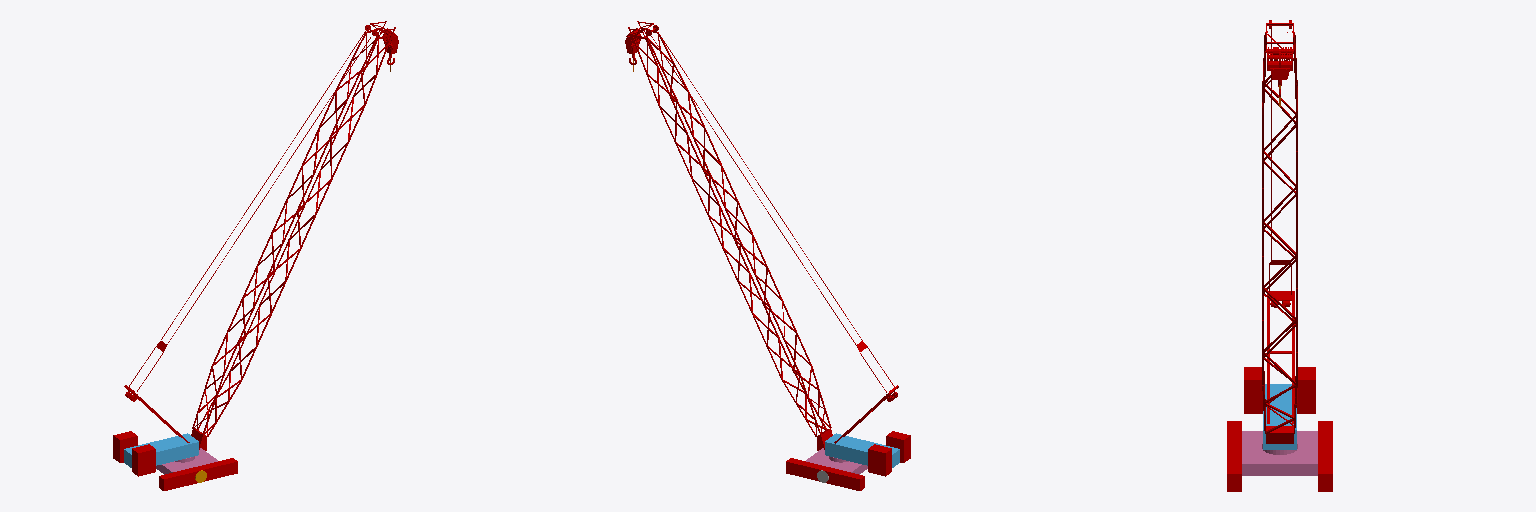
URDF robot description (crawler_crane):
<?xml version="1.0" ?>
<!-- =================================================================================== -->
<!-- |    This document was autogenerated by xacro from crawler_crane_xytheta.urdf.xacro | -->
<!-- |    EDITING THIS FILE BY HAND IS NOT RECOMMENDED                                 | -->
<!-- =================================================================================== -->
<robot name="crawler_crane" xmlns:xacro="http://www.ros.org/wiki/xacro">
  <!-- Included material Files -->
  <material name="black">
    <color rgba="0.0 0.0 0.0 1.0"/>
  </material>
  <material name="blue">
    <color rgba="0.0 0.0 0.8 1.0"/>
  </material>
  <material name="green">
    <color rgba="0.0 0.8 0.0 1.0"/>
  </material>
  <material name="grey">
    <color rgba="0.2 0.2 0.2 1.0"/>
  </material>
  <material name="orange">
    <color rgba="1.0 0.423529411765 0.0392156862745 1.0"/>
  </material>
  <material name="brown">
    <color rgba="0.870588235294 0.811764705882 0.764705882353 1.0"/>
  </material>
  <material name="red">
    <color rgba="0.8 0.0 0.0 1.0"/>
  </material>
  <material name="white">
    <color rgba="1.0 1.0 1.0 1.0"/>
  </material>
  <!-- transmision of joints -->
  <!-- controllers plugins -->
  <!-- velodyne laser -->
  <!-- LR1400-2 -->
  <!--33000-->
  <!--2*67500-->
  <!--1/6-->
  <!--23.2=2.9*(56/7)-->
  <!-- L=1.0, W=2.4 -->
  <!-- Macro for inertia matrix -->
  <!-- Macro for wheel joint -->
  <!-- Macro for counterWeight joint -->
  <!--===============================================================================================-->
  <link name="base_link">
    <visual>
      <geometry>
        <sphere radius="0.0"/>
      </geometry>
      <material name="blue">
        <color rgba="0.0 0.0 0.8 1.0"/>
      </material>
    </visual>
  </link>
  <link name="base_x_link">
    <visual>
      <geometry>
        <sphere radius="0.0"/>
      </geometry>
      <material name="blue">
        <color rgba="0.0 0.0 0.8 1.0"/>
      </material>
    </visual>
  </link>
  <joint name="base_x_joint" type="prismatic">
    <parent link="base_link"/>
    <child link="base_x_link"/>
    <limit effort="1000.0" lower="-100.0" upper="100.0" velocity="0.5"/>
    <axis xyz="1 0 0"/>
    <!-- <origin rpy="0 1.57075 0" xyz="0 0 0"/> -->
  </joint>
  <link name="base_y_link">
    <visual>
      <geometry>
        <sphere radius="0.0"/>
      </geometry>
      <material name="blue">
        <color rgba="0.0 0.0 0.8 1.0"/>
      </material>
    </visual>
  </link>
  <joint name="base_y_joint" type="prismatic">
    <parent link="base_x_link"/>
    <child link="base_y_link"/>
    <axis xyz="0 1 0"/>
    <limit effort="1000.0" lower="-100.0" upper="100.0" velocity="0.5"/>
    <!-- <origin rpy="-1.57075 0 0" xyz="0 0 0"/> -->
  </joint>
  <link name="platform_link">
    <visual>
      <geometry>
        <sphere radius="0.0"/>
      </geometry>
      <material name="blue">
        <color rgba="0.0 0.0 0.8 1.0"/>
      </material>
    </visual>
  </link>
  <joint name="platform_joint" type="fixed">
    <parent link="base_y_link"/>
    <child link="platform_link"/>
    <limit effort="1000.0" lower="-10.0" upper="10.0" velocity="0.5"/>
    <origin rpy="0 0 0" xyz="0 0 0"/>
  </joint>
  <link name="base_theta_link">
    <visual>
      <geometry>
        <sphere radius="0.0"/>
      </geometry>
      <material name="blue">
        <color rgba="0.0 0.0 0.8 1.0"/>
      </material>
    </visual>
  </link>
  <joint name="base_theta_joint" type="continuous">
    <origin rpy="0 0 0" xyz="0 0 0"/>
    <parent link="platform_link"/>
    <child link="base_theta_link"/>
    <axis xyz="0 0 1"/>
  </joint>
  <joint name="base_fix_joint" type="fixed">
    <origin rpy="0 0 0" xyz="0 0 0"/>
    <parent link="base_theta_link"/>
    <child link="base_footprint"/>
  </joint>
  <!-- BASE-FOOTPRINT -->
  <!-- base_footprint is a fictitious link(frame) that is on the ground right below base_link origin -->
  <link name="base_footprint">
    <inertial>
      <mass value="0.0001"/>
      <origin xyz="0 0 0"/>
      <inertia ixx="0.0001" ixy="0.0" ixz="0.0" iyy="0.0001" iyz="0.0" izz="0.0001"/>
    </inertial>
    <visual>
      <origin rpy="0 0 0" xyz="0 0 0"/>
      <geometry>
        <box size="0.001 0.001 0.001"/>
      </geometry>
    </visual>
  </link>
  <gazebo reference="base_footprint">
    <material>Gazebo/Blue</material>
  </gazebo>
  <joint name="base_footprint_joint" type="fixed">
    <origin rpy="0 0 0" xyz="0 0 1.05"/>
    <parent link="base_footprint"/>
    <child link="bottom_link"/>
  </joint>
  <!-- BOTTOM-->
  <link name="bottom_link">
    <inertial>
      <mass value="1750.0"/>
      <inertia ixx="6337.91666667" ixy="0" ixz="0" iyy="11949.5833333" iyz="0" izz="5964.58333333"/>
    </inertial>
    <!-- the crawlerM is placed on the wheels -->
    <visual>
      <origin rpy="0 0 0" xyz="0 0 0"/>
      <geometry>
        <box size="6.5 6.3 1.1"/>
      </geometry>
      <material name="White"/>
    </visual>
    <collision>
      <origin rpy="0 0 0 " xyz="0 0 0"/>
      <geometry>
        <box size="6.5 6.3 1.1"/>
      </geometry>
    </collision>
    <!-- L-crawler -->
    <visual>
      <origin rpy="0 0 0" xyz="0 3.75 -0.25"/>
      <geometry>
        <box size="10.385 1.2 1.6"/>
      </geometry>
      <material name="red"/>
    </visual>
    <collision>
      <origin rpy="0 0 0" xyz="0 3.75 -0.25"/>
      <geometry>
        <box size="10.385 1.2 1.6"/>
      </geometry>
    </collision>
    <!-- R-crawler -->
    <visual>
      <origin rpy="0 0 0" xyz="0 -3.75 -0.25"/>
      <geometry>
        <box size="10.385 1.2 1.6"/>
      </geometry>
      <material name="red"/>
    </visual>
    <collision>
      <origin rpy="0 0 0" xyz="0 -3.75 -0.25"/>
      <geometry>
        <box size="10.385 1.2 1.6"/>
      </geometry>
    </collision>
    <!-- slewingRing -->
    <visual>
      <origin rpy="0 0 0" xyz="0 0 0.8"/>
      <geometry>
        <cylinder length="0.5" radius="1.5"/>
      </geometry>
      <material name="White"/>
    </visual>
    <collision>
      <origin rpy="0 0 0" xyz="0 0 0.8"/>
      <geometry>
        <cylinder length="0.5" radius="1.5"/>
      </geometry>
    </collision>
  </link>
  <!-- Wheel Definitions -->
  <!-- lr: left, right -->
  <link name="wheel_right_link">
    <visual>
      <origin rpy="1.57079632679 0  0 " xyz="0 0 0"/>
      <geometry>
        <cylinder length="0.12" radius="0.8"/>
      </geometry>
      <material name="Black"/>
    </visual>
    <collision>
      <origin rpy="1.57079632679 0 0 " xyz="0 0 0"/>
      <geometry>
        <cylinder length="0.12" radius="0.8"/>
      </geometry>
    </collision>
    <inertial>
      <mass value="2770000.0"/>
      <inertia ixx="775600.0" ixy="0" ixz="0" iyy="775600.0" iyz="0" izz="886400.0"/>
    </inertial>
    <!-- the crawlerM is placed on the wheels -->
  </link>
  <gazebo reference="wheel_right_link">
    <material>Gazebo/Black</material>
  </gazebo>
  <joint name="chassis_to_wheel_right_joint" type="continuous">
    <parent link="bottom_link"/>
    <child link="wheel_right_link"/>
    <origin rpy="0 0 0" xyz="0 4.35 -0.25"/>
    <axis rpy="0 0 0" xyz="0 1 0"/>
  </joint>
  <!-- Transmission is important to link the joints and the controller -->
  <transmission name="wheel_right_joint_trans">
    <type>transmission_interface/SimpleTransmission</type>
    <joint name="chassis_to_wheel_right_joint"/>
    <actuator name="wheel_right_joint_motor">
      <hardwareInterface>EffortJointInterface</hardwareInterface>
      <mechanicalReduction>1</mechanicalReduction>
    </actuator>
  </transmission>
  <!-- lr: left, right -->
  <link name="wheel_left_link">
    <visual>
      <origin rpy="1.57079632679 0  0 " xyz="0 0 0"/>
      <geometry>
        <cylinder length="0.12" radius="0.8"/>
      </geometry>
      <material name="Black"/>
    </visual>
    <collision>
      <origin rpy="1.57079632679 0 0 " xyz="0 0 0"/>
      <geometry>
        <cylinder length="0.12" radius="0.8"/>
      </geometry>
    </collision>
    <inertial>
      <mass value="2770000.0"/>
      <inertia ixx="775600.0" ixy="0" ixz="0" iyy="775600.0" iyz="0" izz="886400.0"/>
    </inertial>
    <!-- the crawlerM is placed on the wheels -->
  </link>
  <gazebo reference="wheel_left_link">
    <material>Gazebo/Black</material>
  </gazebo>
  <joint name="chassis_to_wheel_left_joint" type="continuous">
    <parent link="bottom_link"/>
    <child link="wheel_left_link"/>
    <origin rpy="0 0 0" xyz="0 -4.35 -0.25"/>
    <axis rpy="0 0 0" xyz="0 1 0"/>
  </joint>
  <!-- Transmission is important to link the joints and the controller -->
  <transmission name="wheel_left_joint_trans">
    <type>transmission_interface/SimpleTransmission</type>
    <joint name="chassis_to_wheel_left_joint"/>
    <actuator name="wheel_left_joint_motor">
      <hardwareInterface>EffortJointInterface</hardwareInterface>
      <mechanicalReduction>1</mechanicalReduction>
    </actuator>
  </transmission>
  <!-- superStructure Definitions -->
  <joint name="superStructure_joint" type="continuous">
    <origin rpy="0 0 0" xyz="0 0 1.05"/>
    <!-- on the top of slewingRing -->
    <axis rpy="0 0 0" xyz="0 0 1"/>
    <limit effort="1000000000000000000000000000" velocity="1.57079632679"/>
    <parent link="bottom_link"/>
    <child link="superStructure_link"/>
  </joint>
  <link name="superStructure_link">
    <inertial>
      <mass value="3300.0"/>
      <inertia ixx="23166.0" ixy="0" ixz="0" iyy="24431.0" iyz="0" izz="3047.0"/>
    </inertial>
    <visual>
      <origin rpy="0 0 0" xyz="-3.0 0 0.9"/>
      <geometry>
        <box size="9.0 2.8 1.8"/>
      </geometry>
      <material name="White"/>
    </visual>
    <collision>
      <origin rpy="0 0 0 " xyz="-3.0 0 0.9"/>
      <geometry>
        <box size="9.0 2.8 1.8"/>
      </geometry>
    </collision>
  </link>
  <!-- counterWeight Definitions -->
  <!-- lr: left, right -->
  <link name="counterWeight_right_link">
    <visual>
      <origin rpy="0 0  0" xyz="0 0 1.55"/>
      <geometry>
        <box size="2.495 1.6 3.1"/>
      </geometry>
      <material name="red"/>
    </visual>
    <collision>
      <origin rpy="0 0 0" xyz="0 0 1.55"/>
      <geometry>
        <box size="2.495 1.6 3.1"/>
      </geometry>
    </collision>
    <inertial>
      <mass value="6.75"/>
      <inertia ixx="8.9072015625" ixy="0" ixz="0" iyy="4.9415765625" iyz="0" izz="6.845625"/>
    </inertial>
  </link>
  <gazebo reference="counterWeight_right_link">
    <material>Gazebo/Red</material>
  </gazebo>
  <joint name="superStructure_to_counterWeight_right_joint" type="fixed">
    <parent link="superStructure_link"/>
    <child link="counterWeight_right_link"/>
    <origin rpy="0 0 0" xyz="-6.75 2.2 0"/>
  </joint>
  <!-- lr: left, right -->
  <link name="counterWeight_left_link">
    <visual>
      <origin rpy="0 0  0" xyz="0 0 1.55"/>
      <geometry>
        <box size="2.495 1.6 3.1"/>
      </geometry>
      <material name="red"/>
    </visual>
    <collision>
      <origin rpy="0 0 0" xyz="0 0 1.55"/>
      <geometry>
        <box size="2.495 1.6 3.1"/>
      </geometry>
    </collision>
    <inertial>
      <mass value="6.75"/>
      <inertia ixx="8.9072015625" ixy="0" ixz="0" iyy="4.9415765625" iyz="0" izz="6.845625"/>
    </inertial>
  </link>
  <gazebo reference="counterWeight_left_link">
    <material>Gazebo/Red</material>
  </gazebo>
  <joint name="superStructure_to_counterWeight_left_joint" type="fixed">
    <parent link="superStructure_link"/>
    <child link="counterWeight_left_link"/>
    <origin rpy="0 0 0" xyz="-6.75 -2.2 0"/>
  </joint>
  <!-- luffing: boom joint -->
  <joint name="boom_joint" type="revolute">
    <origin rpy="0 0 0" xyz="1.5 0 0.49"/>
    <axis xyz="0 -1 0"/>
    <limit effort="1000000000000000000000000000" lower="0.6" upper="1.57079632679" velocity="1.57"/>
    <parent link="superStructure_link"/>
    <child link="boom_link"/>
  </joint>
  <link name="boom_link">
    <inertial>
      <mass value="232.0"/>
      <inertia ixx="60740.6933333" ixy="0" ixz="0" iyy="60780.9066667" iyz="0" izz="262.933333333"/>
    </inertial>
    <visual>
      <origin rpy="0 0 0" xyz="0 0 0"/>
      <geometry>
        <!--<box size="${boomL} ${boomW} ${boomH}" />-->
        <mesh filename="package://crawler_crane_description/meshes/boom.dae"/>
      </geometry>
      <material name="red"/>
    </visual>
    <collision>
      <origin rpy="0 0 0" xyz="28.0 0 0"/>
      <geometry>
        <box size="56.0 2.8 2.4"/>
      </geometry>
    </collision>
  </link>
  <!-- maintain rope erect: rope joint -->
  <joint name="rope_joint" type="revolute">
    <origin rpy="0 0 0" xyz="56.0 0 -1.66"/>
    <axis xyz="0 -1 0"/>
    <limit effort="1000000000000000000000000000" lower="-3.14159265359" upper="3.14159265359" velocity="1.57"/>
    <mimic joint="boom_joint" multiplier="-1.0" offset="0"/>
    <parent link="boom_link"/>
    <child link="rope_link"/>
  </joint>
  <link name="rope_link">
    <inertial>
      <mass value="150.0"/>
      <inertia ixx="31250.125" ixy="0" ixz="0" iyy="0.25" iyz="0" izz="31250.125"/>
    </inertial>
    <!--hookBlock Mass is placed here -->
    <visual>
      <origin rpy="0 0 0" xyz="0 0 -2.5"/>
      <geometry>
        <box size="0.1 0.1 5"/>
      </geometry>
    </visual>
  </link>
  <!-- lifting: hook_block joint -->
  <joint name="hook_block_joint" type="prismatic">
    <origin rpy="0 0 0" xyz="0 0 0"/>
    <axis xyz="0 0 -1"/>
    <limit effort="1000000000000000000000000000" lower="0" upper="84.0" velocity="2.0"/>
    <parent link="rope_link"/>
    <child link="hook_block_link"/>
  </joint>
  <link name="hook_block_link">
    <inertial>
      <mass value="0.03"/>
      <inertia ixx="0.027378" ixy="0" ixz="0" iyy="0.027378" iyz="0" izz="0.027378"/>
    </inertial>
    <visual>
      <origin rpy="0 0 0" xyz="0 0 0"/>
      <geometry>
        <!--<box size="${size} ${size} ${size}" />-->
        <mesh filename="package://crawler_crane_description/meshes/hookblock.dae"/>
      </geometry>
      <material name="red"/>
    </visual>
    <collision>
      <origin rpy="0 0 0" xyz="0 0 1.17"/>
      <geometry>
        <box size="0.7722 2.34 2.34"/>
      </geometry>
    </collision>
  </link>
  <!-- hook rotating: hook joint -->
  <joint name="hook_joint" type="revolute">
    <origin rpy="0 0 0" xyz="0 0 -4.11"/>
    <axis xyz="0 0 1"/>
    <limit effort="1000000000000000000000000000" lower="-3.14159265359" upper="3.14159265359" velocity="1.57"/>
    <parent link="hook_block_link"/>
    <child link="hook_link"/>
  </joint>
  <link name="hook_link">
    <inertial>
      <mass value="0.001"/>
      <inertia ixx="0.00052215" ixy="0" ixz="0" iyy="0.000594408333333" iyz="0" izz="0.000594408333333"/>
    </inertial>
    <visual>
      <origin rpy="0 0 0" xyz="0 0 0"/>
      <geometry>
        <mesh filename="package://crawler_crane_description/meshes/hook.dae"/>
      </geometry>
      <material name="red"/>
    </visual>
    <collision>
      <origin rpy="0 0 0" xyz="0 0 0.885"/>
      <geometry>
        <box size="1.77 2 1.77"/>
      </geometry>
    </collision>
  </link>
  <transmission name="tran1">
    <type>transmission_interface/SimpleTransmission</type>
    <joint name="superStructure_joint">
      <hardwareInterface>PositionJointInterface</hardwareInterface>
    </joint>
    <actuator name="motor1">
      <hardwareInterface>PositionJointInterface</hardwareInterface>
      <mechanicalReduction>1</mechanicalReduction>
    </actuator>
  </transmission>
  <transmission name="tran1">
    <type>transmission_interface/SimpleTransmission</type>
    <joint name="boom_joint">
      <hardwareInterface>PositionJointInterface</hardwareInterface>
    </joint>
    <actuator name="motor1">
      <hardwareInterface>PositionJointInterface</hardwareInterface>
      <mechanicalReduction>1</mechanicalReduction>
    </actuator>
  </transmission>
  <transmission name="tran1">
    <type>transmission_interface/SimpleTransmission</type>
    <joint name="rope_joint">
      <hardwareInterface>PositionJointInterface</hardwareInterface>
    </joint>
    <actuator name="motor1">
      <hardwareInterface>PositionJointInterface</hardwareInterface>
      <mechanicalReduction>1</mechanicalReduction>
    </actuator>
  </transmission>
  <transmission name="tran1">
    <type>transmission_interface/SimpleTransmission</type>
    <joint name="hook_block_joint">
      <hardwareInterface>PositionJointInterface</hardwareInterface>
    </joint>
    <actuator name="motor1">
      <hardwareInterface>PositionJointInterface</hardwareInterface>
      <mechanicalReduction>1</mechanicalReduction>
    </actuator>
  </transmission>
  <transmission name="tran1">
    <type>transmission_interface/SimpleTransmission</type>
    <joint name="hook_joint">
      <hardwareInterface>PositionJointInterface</hardwareInterface>
    </joint>
    <actuator name="motor1">
      <hardwareInterface>PositionJointInterface</hardwareInterface>
      <mechanicalReduction>1</mechanicalReduction>
    </actuator>
  </transmission>
  <gazebo>
    <!-- Differential drive controller  -->
    <plugin filename="libgazebo_ros_diff_drive.so" name="differential_drive_controller">
      <rosDebugLevel>Debug</rosDebugLevel>
      <publishWheelTF>true</publishWheelTF>
      <robotNamespace>/</robotNamespace>
      <publishTf>1</publishTf>
      <publishWheelJointState>true</publishWheelJointState>
      <alwaysOn>true</alwaysOn>
      <legacyMode>true</legacyMode>
      <updateRate>100.0</updateRate>
      <leftJoint>chassis_to_wheel_left_joint</leftJoint>
      <rightJoint>chassis_to_wheel_right_joint</rightJoint>
      <wheelSeparation>4.35</wheelSeparation>
      <wheelDiameter>1.6</wheelDiameter>
      <broadcastTF>1</broadcastTF>
      <wheelTorque>[number redacted]</wheelTorque>
      <wheelAcceleration>1.8</wheelAcceleration>
      <commandTopic>cmd_vel</commandTopic>
      <odometryFrame>odom</odometryFrame>
      <odometryTopic>odom</odometryTopic>
      <robotBaseFrame>base_footprint</robotBaseFrame>
    </plugin>
    <!-- ros_control plugin -->
    <plugin filename="libgazebo_ros_control.so" name="gazebo_ros_control">
      <robotNamespace>/</robotNamespace>
    </plugin>
    <!-- gazebo_mimic_joint plugin -->
    <plugin filename="libroboticsgroup_gazebo_mimic_joint_plugin.so" name="gazebo_mimic_joint">
      <rosDebugLevel>Debug</rosDebugLevel>
      <robotNamespace>/</robotNamespace>
      <joint>boom_joint</joint>
      <mimicJoint>rope_joint</mimicJoint>
      <multiplier>-1</multiplier>
      <maxEffort>[number redacted]</maxEffort>
    </plugin>
  </gazebo>
  <joint name="velodyne2_base_mount_joint" type="fixed">
    <origin rpy="0 0 0" xyz="4.5 1.68 9.0"/>
    <parent link="superStructure_link"/>
    <child link="velodyne2_base_link"/>
  </joint>
  <link name="velodyne2_base_link">
    <inertial>
      <mass value="1.0"/>
      <origin xyz="0 0 0.07212"/>
      <inertia ixx="0.002188947025" ixy="0" ixz="0" iyy="0.002188947025" iyz="0" izz="0.00091036445"/>
    </inertial>
    <visual>
      <geometry>
        <mesh filename="package://velodyne_description/meshes/HDL32E_base.dae"/>
      </geometry>
    </visual>
    <collision>
      <origin rpy="0 0 0" xyz="0 0 0.07212"/>
      <geometry>
        <cylinder length="0.14424" radius="0.04267"/>
      </geometry>
    </collision>
  </link>
  <joint name="velodyne2_base_scan_joint" type="fixed">
    <origin rpy="0 0 0" xyz="0 0 0.09081"/>
    <parent link="velodyne2_base_link"/>
    <child link="velodyne2"/>
  </joint>
  <link name="velodyne2">
    <inertial>
      <mass value="0.01"/>
      <origin xyz="0 0 0"/>
      <inertia ixx="1e-7" ixy="0" ixz="0" iyy="1e-7" iyz="0" izz="1e-7"/>
    </inertial>
    <visual>
      <origin rpy="0 0 0" xyz="0 0 -0.09081"/>
      <geometry>
        <mesh filename="package://velodyne_description/meshes/HDL32E_scan.dae"/>
      </geometry>
    </visual>
  </link>
  <!-- Gazebo requires the velodyne_gazebo_plugins package -->
  <gazebo reference="velodyne2">
    <sensor name="velodyne2-HDL32E" type="ray">
      <pose>0 0 0 0 0 0</pose>
      <visualize>false</visualize>
      <update_rate>10</update_rate>
      <ray>
        <scan>
          <horizontal>
            <samples>220</samples>
            <resolution>1</resolution>
            <min_angle>-3.14159265359</min_angle>
            <max_angle>3.14159265359</max_angle>
          </horizontal>
          <vertical>
            <samples>32</samples>
            <resolution>1</resolution>
            <min_angle>-0.535292481587</min_angle>
            <max_angle> 0.186226631188</max_angle>
          </vertical>
        </scan>
        <range>
          <min>0.3</min>
          <max>131.0</max>
          <resolution>0.001</resolution>
        </range>
        <noise>
          <type>gaussian</type>
          <mean>0.0</mean>
          <stddev>0.0</stddev>
        </noise>
      </ray>
      <plugin filename="libgazebo_ros_velodyne_laser.so" name="gazebo_ros_laser_controller">
        <topicName>/velodyne_points2</topicName>
        <frameName>velodyne2</frameName>
        <min_range>0.9</min_range>
        <max_range>130.0</max_range>
        <gaussianNoise>0.008</gaussianNoise>
      </plugin>
    </sensor>
  </gazebo>
</robot>

--- Render facts (derived) ---
3 views of the same robot in one strip: view 1: azimuth 30°, elevation 25°; view 2: azimuth 150°, elevation 25°; view 3: azimuth 270°, elevation 25° (orthographic).
Robot: crawler_crane — 18 links, 17 joints (3 revolute, 4 continuous, 3 prismatic, 7 fixed); root link base_link; default pose: all joints at 0 but 1 set to mid-range because 0 is outside their limits (boom_joint = 1.09, rope_joint = -1.09).
Links seen in each view (by area): view 1: boom_link, bottom_link, superStructure_link, counterWeight_left_link; view 2: boom_link, bottom_link, superStructure_link, counterWeight_right_link; view 3: boom_link, bottom_link, superStructure_link, counterWeight_left_link, counterWeight_right_link, hook_block_link.
Link boxes in pixels (bbox=[...]): boom_link: bbox=[124, 21, 397, 449]; bottom_link: bbox=[156, 439, 237, 490]; superStructure_link: bbox=[124, 433, 198, 467]; counterWeight_left_link: bbox=[132, 444, 155, 476]; boom_link: bbox=[626, 21, 898, 449]; bottom_link: bbox=[786, 439, 867, 490]; superStructure_link: bbox=[825, 433, 899, 467]; counterWeight_right_link: bbox=[868, 444, 891, 476]; boom_link: bbox=[1262, 20, 1297, 443]; bottom_link: bbox=[1227, 421, 1332, 491]; superStructure_link: bbox=[1263, 384, 1296, 449]; counterWeight_left_link: bbox=[1244, 367, 1262, 413]; counterWeight_right_link: bbox=[1297, 367, 1315, 413]; hook_block_link: bbox=[1267, 52, 1292, 79].
Size in the robot's own frame: 37.7 by 8.82 by 52.92 metres.
Meshes: 5 distinct files referenced, 3 mesh visuals loaded (3 Collada DAE); not drawn: 2 (reference not matched to a file when rendering).
